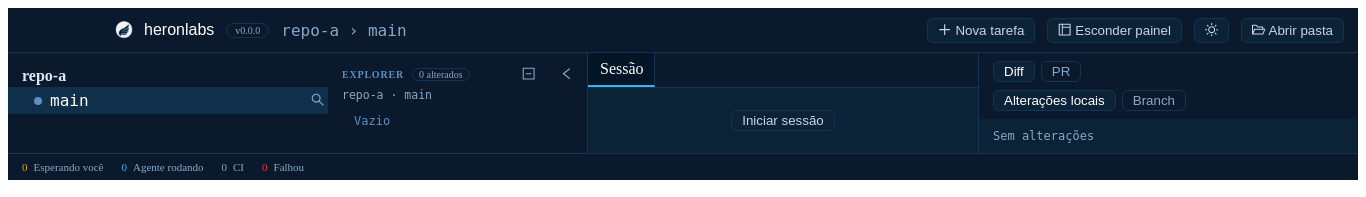
AppShell › Should collapse the explorer and reopen it from the hamburger
Click the button named "Fechar explorer".
click(566, 74)  # box [550,63,583,86]
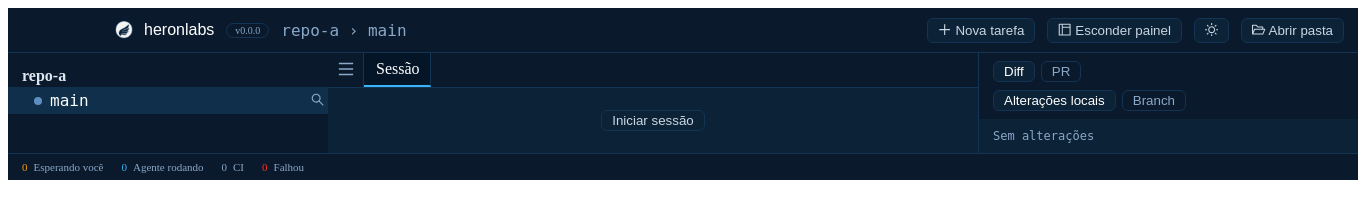
Expected: the text "Explorer" is gone
Click the button named "Abrir explorer".
click(346, 70)  # box [328,53,364,87]
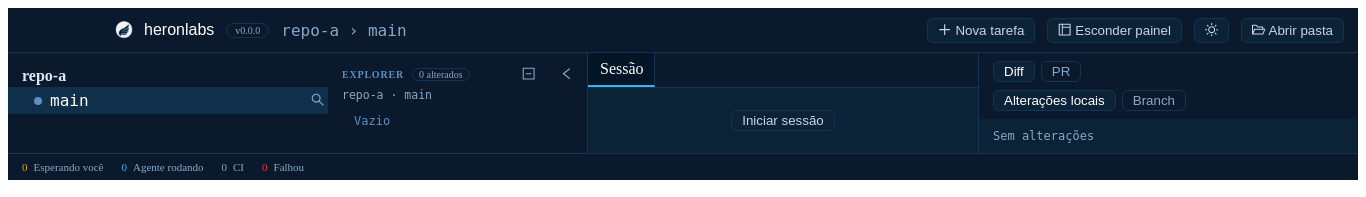
Expected: the navigation bar "Explorer" is shown, [328,53,588,153]
